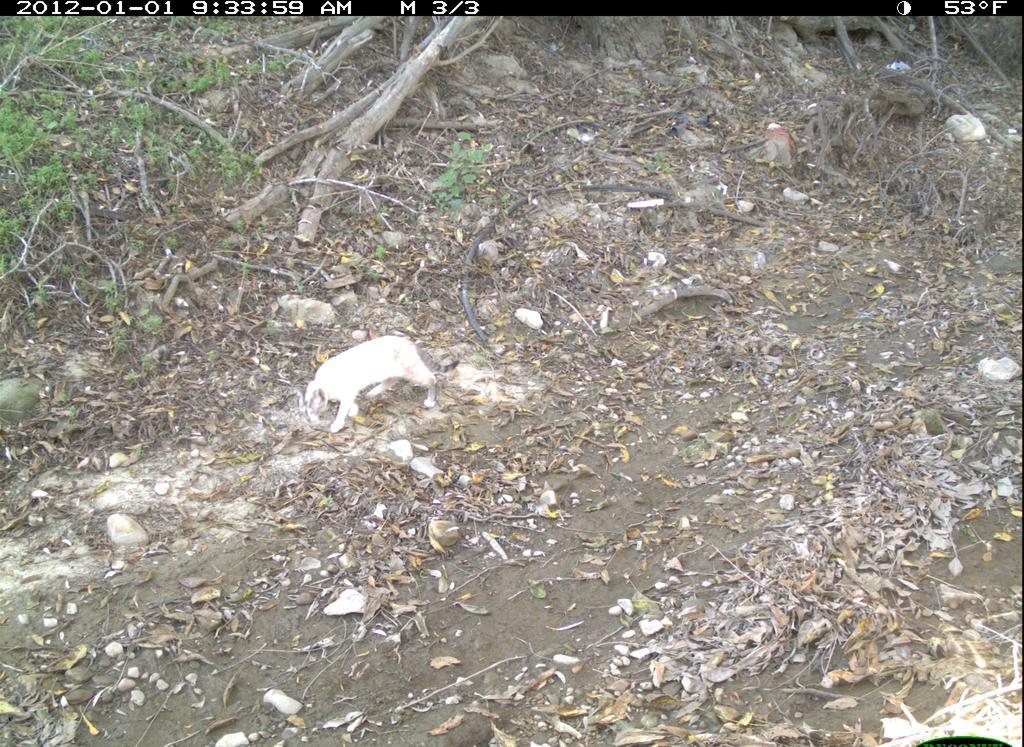cat: (287, 313, 440, 448)
